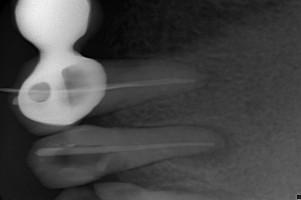Furcation Involvement: (169, 123, 239, 168)
